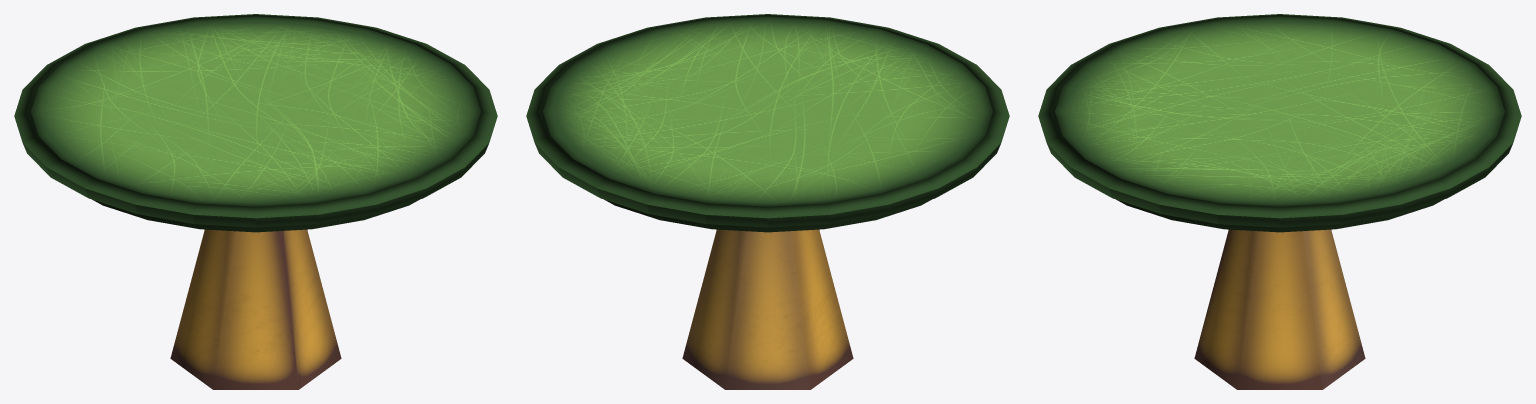
Rendered from Table_Round_01.glb.
The picture shows the model from 3 angles, left to right: view 1: azimuth 30°, elevation 25°; view 2: azimuth 150°, elevation 25°; view 3: azimuth 270°, elevation 25°; orthographic projection.
Parts seen in each view (by area): view 1: Table_Round_01; view 2: Table_Round_01; view 3: Table_Round_01.
Boxes of the visible parts, x1,y1,x2,y2 form: Table_Round_01: (14, 14, 497, 389); Table_Round_01: (526, 14, 1009, 389); Table_Round_01: (1038, 14, 1521, 389).
Bounding box in the file's own units: 1.21 × 0.6827 × 1.21.
Materials: 1 (1 with a texture image).
